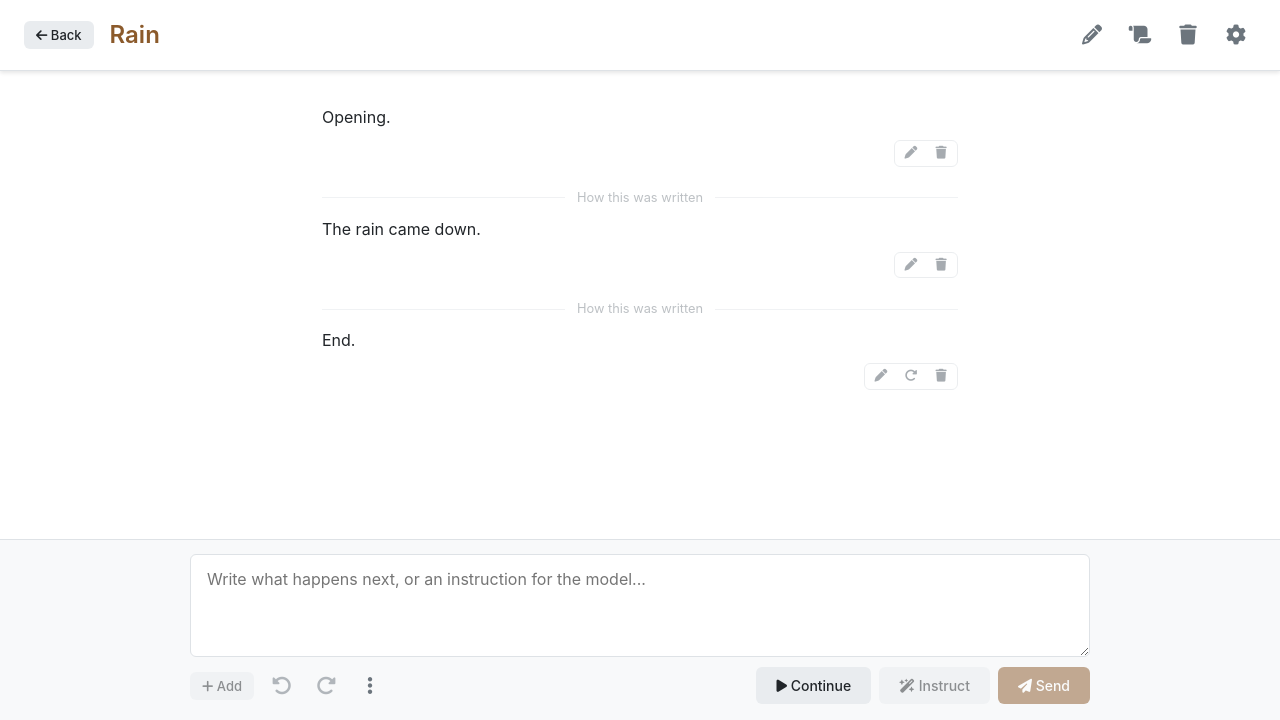
Scenario: StoryEditor in Enhanced Story Mode › deletes a passage, keeping its record last for undo
Step 1. Click the 2nd button titled "Delete" → (941,265), box [927,255,955,276]
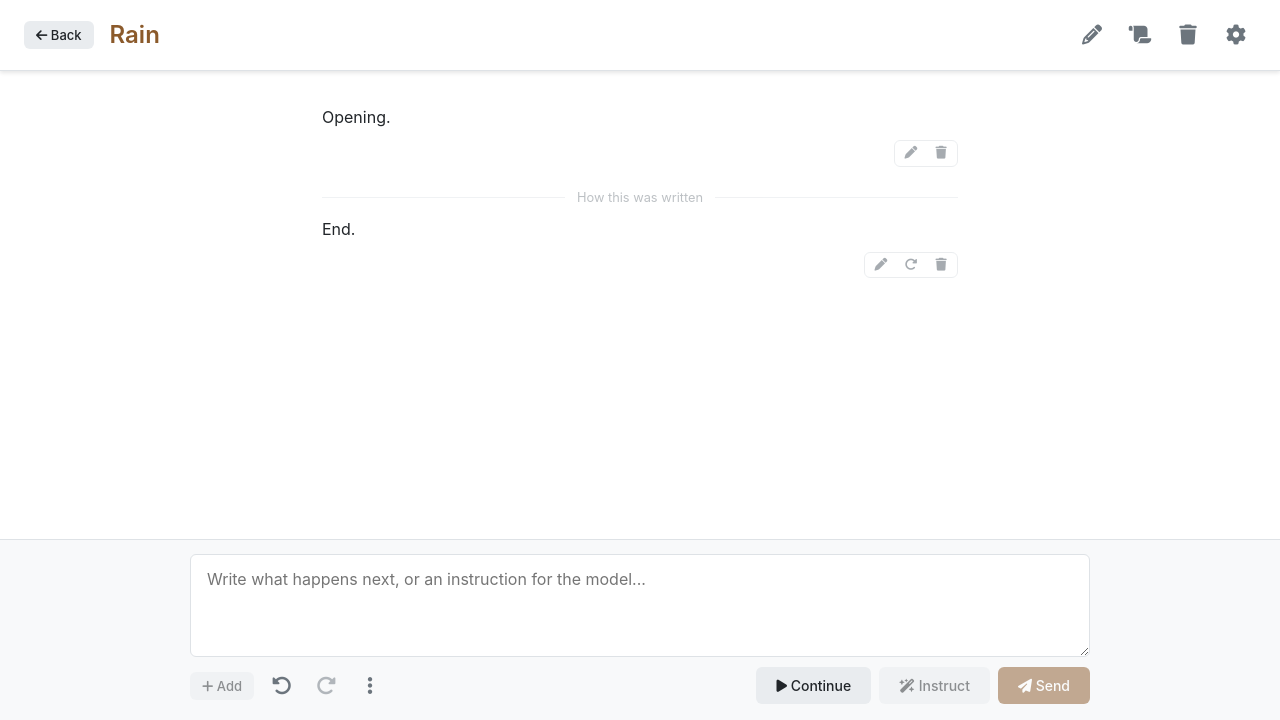
Expected: the elements with class "turn" read "Opening.", "End.", in this order, [322,103,958,167]; [322,215,958,278]
